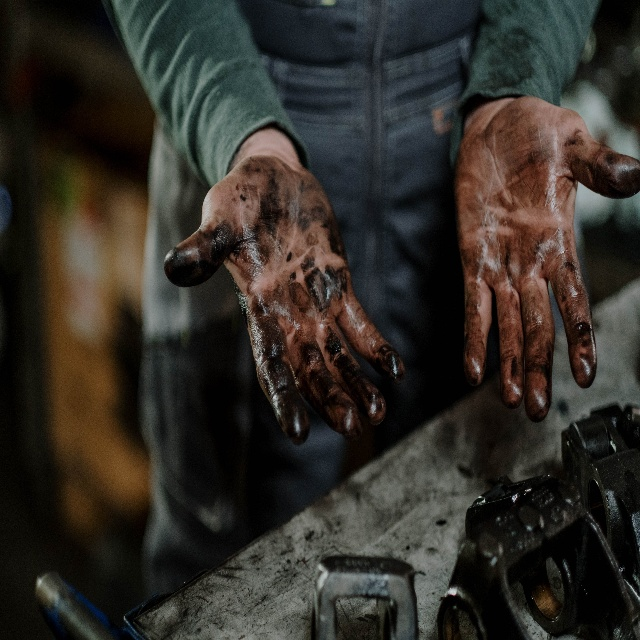Sin_guantes: (163, 149, 407, 448), (454, 93, 640, 426)
